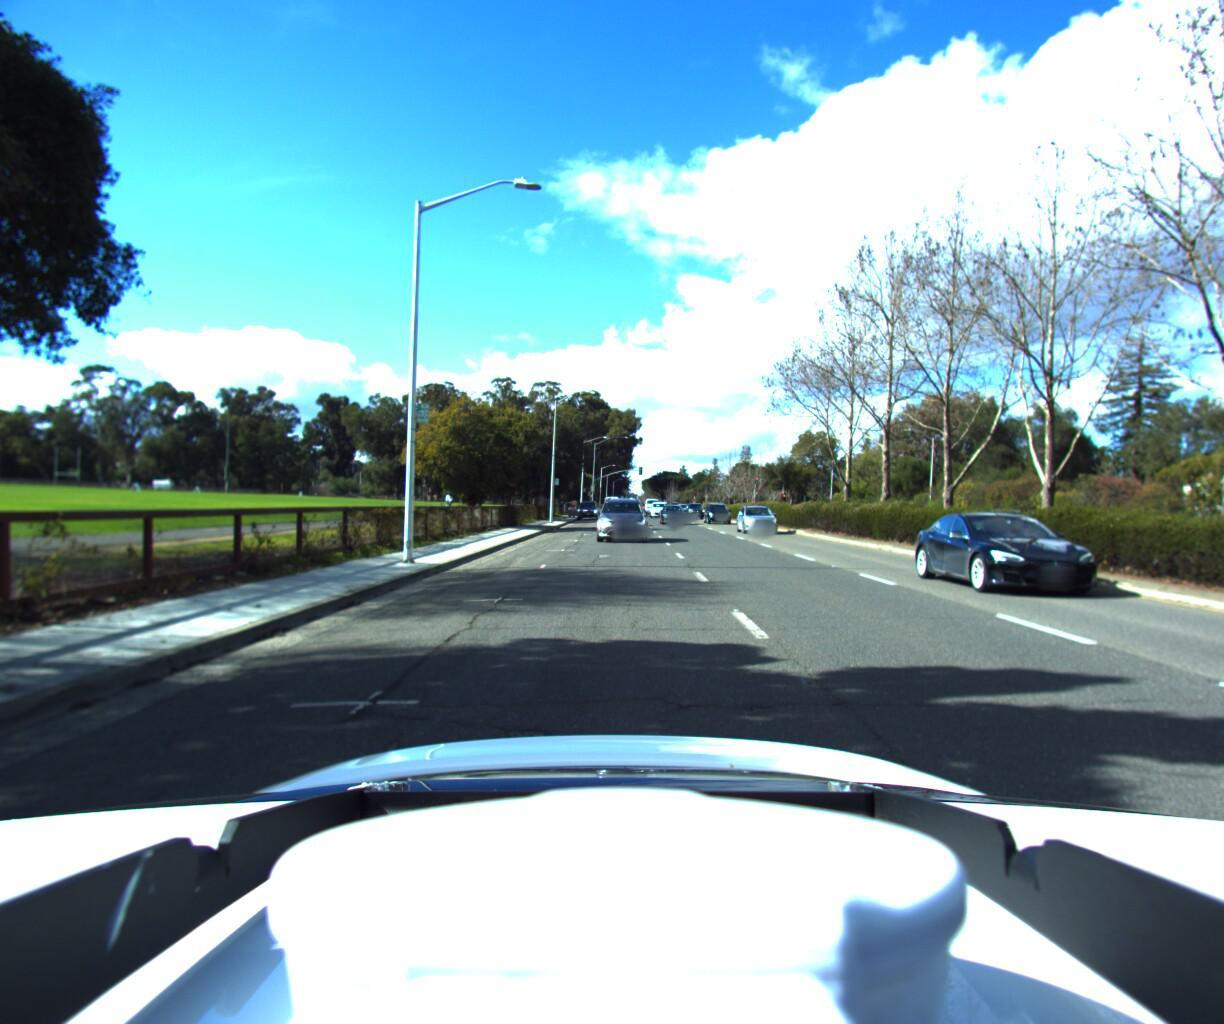car: (919, 508, 1183, 617), (595, 492, 649, 542), (738, 505, 785, 537), (703, 500, 736, 524), (659, 507, 690, 530), (576, 499, 598, 519), (685, 505, 709, 521)
